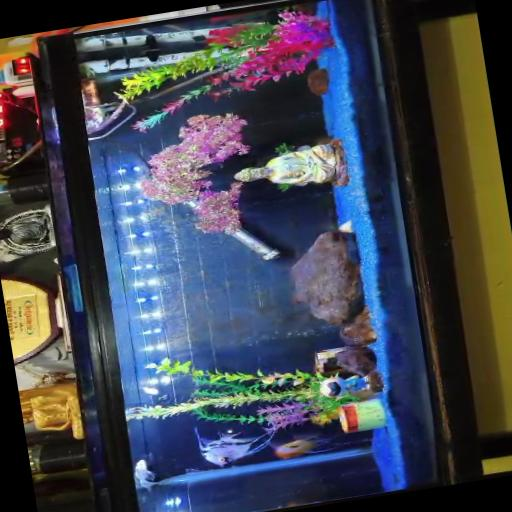Fish: (195, 427, 274, 466), (272, 435, 334, 459), (135, 459, 156, 489), (208, 87, 233, 99), (143, 386, 159, 394)
